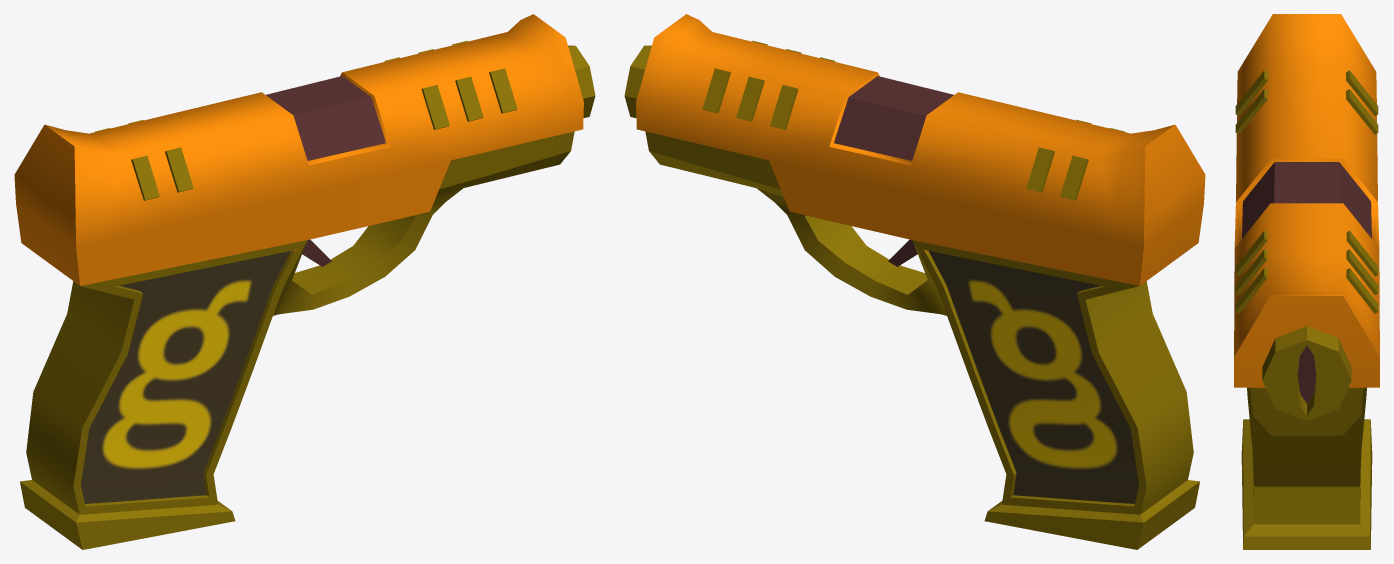
The model's file is GoldenGun.fbx.
3 views of the same model, side by side, from view 1: azimuth 30°, elevation 25°; view 2: azimuth 150°, elevation 25°; view 3: azimuth 270°, elevation 25° (orthographic). The views are drawn at different scales.
Visible parts, largest first — view 1: GoldGun, GoldGunGold; view 2: GoldGun, GoldGunGold; view 3: GoldGunGold, GoldGun.
Boxes of the visible parts, x1,y1,x2,y2 form: GoldGun: [20, 40, 595, 549]; GoldGunGold: [14, 14, 583, 285]; GoldGun: [624, 40, 1199, 549]; GoldGunGold: [636, 14, 1205, 285]; GoldGunGold: [1234, 14, 1379, 387]; GoldGun: [1235, 70, 1378, 549].
Size of the model in its own units: 473 by 345 by 99.52.
